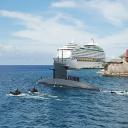submarine: (37, 52, 107, 92)
